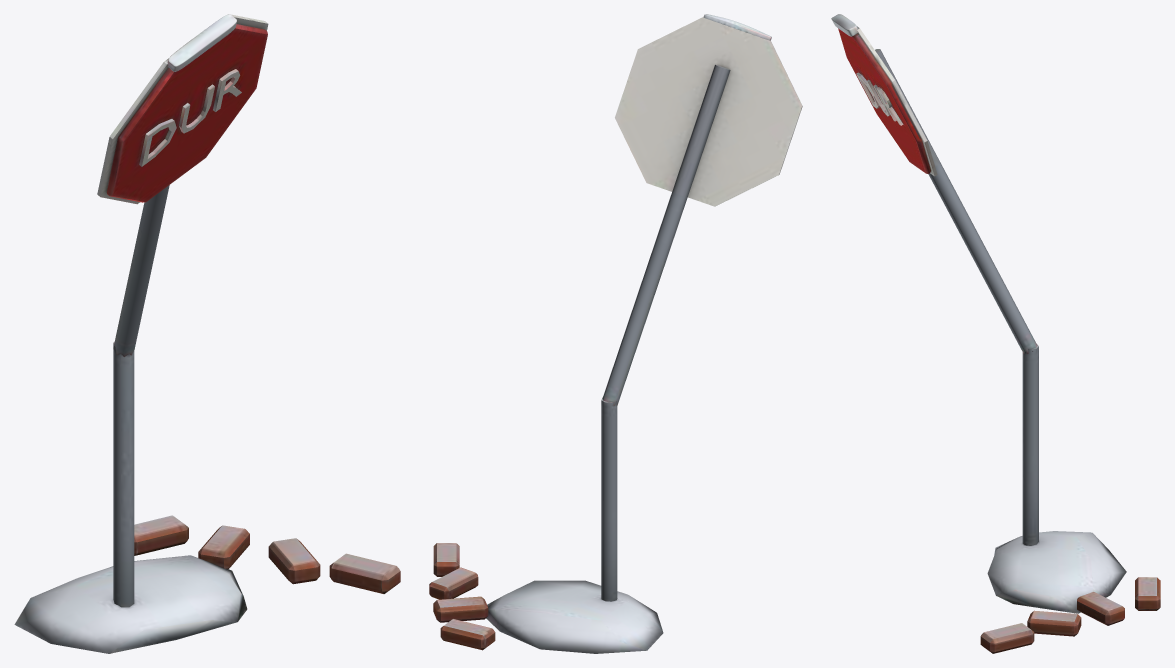
The model's file is sign_stop_bent.glb.
3 views of the same model, side by side, from view 1: azimuth 30°, elevation 25°; view 2: azimuth 150°, elevation 25°; view 3: azimuth 270°, elevation 25° (orthographic). The views are drawn at different scales.
Parts seen in each view (by area): view 1: sign_stop_bent; view 2: sign_stop_bent; view 3: sign_stop_bent.
Part boxes in pixels (x1,y1,x2,y2): sign_stop_bent: (14, 14, 400, 653); sign_stop_bent: (429, 14, 802, 653); sign_stop_bent: (831, 14, 1160, 653).
Size of the model in its own units: 1.44 by 2.52 by 1.41.
1 material, 1 textured.
